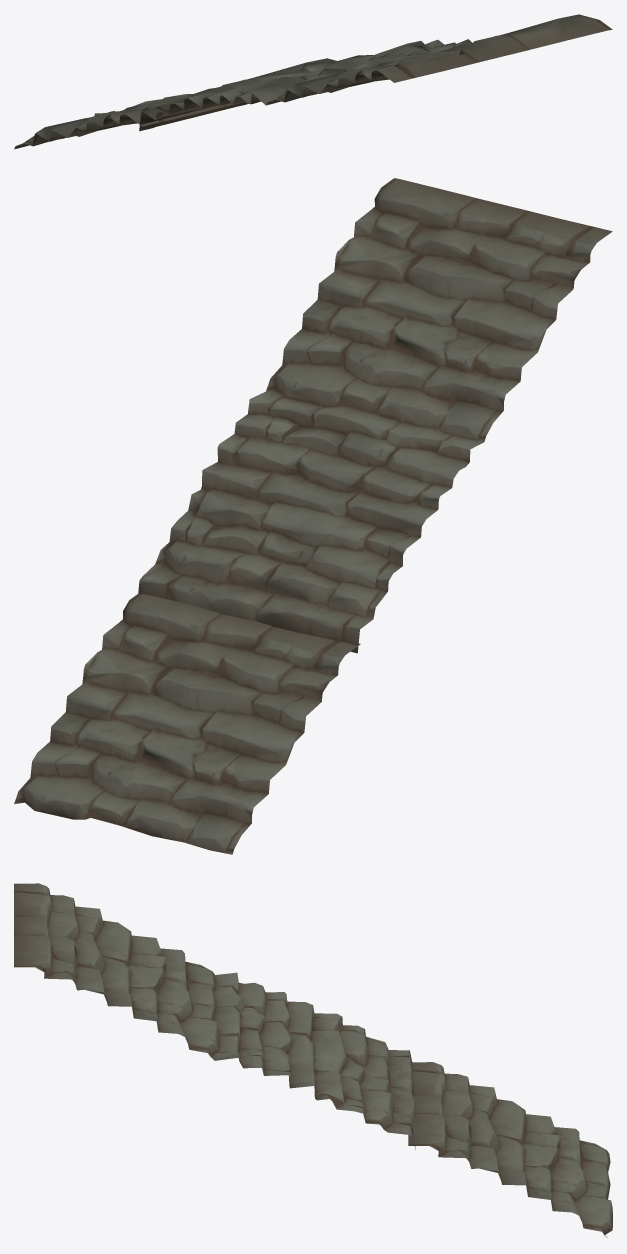
File: SM_FW01_Ruins_Int_Stairs_6x3x2_R_01.fbx
3 views of the same model, one above another, from view 1: azimuth 30°, elevation 25°; view 2: azimuth 150°, elevation 25°; view 3: azimuth 270°, elevation 25° (orthographic). The views are drawn at different scales.
Visible parts, largest first — view 1: SM_FW01_Ruins_Int_Stairs_6x3x2_R_01_LOD0; view 2: SM_FW01_Ruins_Int_Stairs_6x3x2_R_01_LOD0; view 3: SM_FW01_Ruins_Int_Stairs_6x3x2_R_01_LOD0.
Part boxes in pixels (box(x1,y1,x2,y2)): SM_FW01_Ruins_Int_Stairs_6x3x2_R_01_LOD0: box(14, 14, 612, 149); SM_FW01_Ruins_Int_Stairs_6x3x2_R_01_LOD0: box(14, 178, 612, 854); SM_FW01_Ruins_Int_Stairs_6x3x2_R_01_LOD0: box(14, 883, 612, 1237).
Size of what is drawn, in the model's own units: 2.01 by 3.08 by 6.08.
